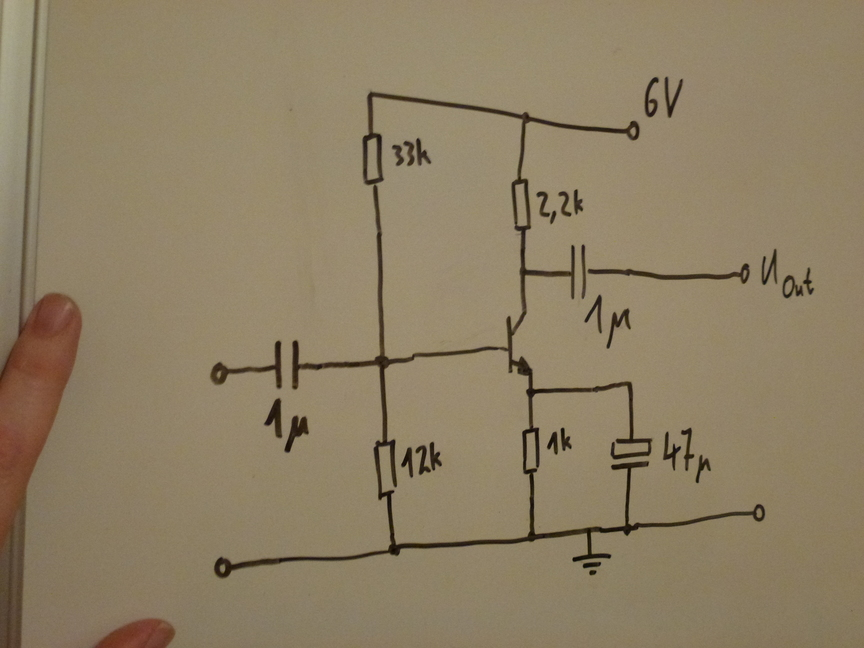capacitor.polarized: (606, 431, 656, 478)
capacitor.unpolarized: (261, 337, 315, 394), (560, 240, 598, 301)
gnd: (571, 549, 614, 577)
junction: (370, 349, 393, 372), (384, 538, 406, 560), (522, 527, 541, 546), (362, 84, 378, 102), (518, 109, 534, 127), (620, 521, 636, 538), (522, 384, 539, 399), (516, 263, 530, 278), (583, 523, 597, 537), (623, 378, 639, 390)
resistor: (504, 173, 537, 238), (369, 434, 400, 501), (359, 129, 387, 193), (519, 422, 543, 478)
terminal: (204, 358, 237, 390), (207, 553, 237, 581), (748, 500, 770, 527), (734, 259, 754, 287), (623, 118, 644, 143)
text: (658, 425, 716, 485), (759, 248, 819, 303), (581, 293, 635, 349), (261, 397, 312, 455), (535, 185, 587, 225), (642, 73, 686, 120), (399, 441, 445, 479), (389, 135, 434, 169), (543, 425, 576, 456)
transistor: (498, 306, 545, 379)
